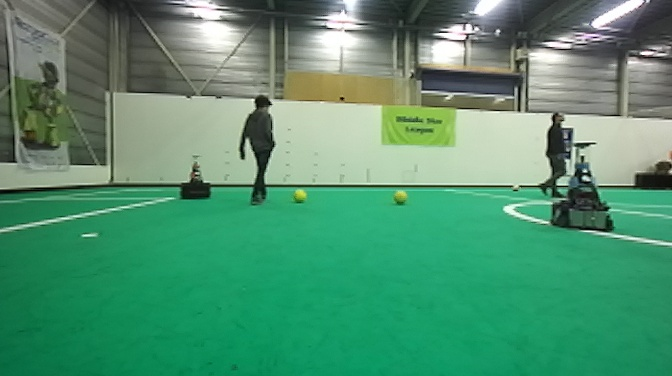ball: (292, 186, 309, 205), (393, 189, 409, 205), (509, 181, 521, 194)
human: (235, 93, 278, 205), (537, 112, 571, 198)
robot: (549, 139, 616, 232), (177, 153, 215, 201)
